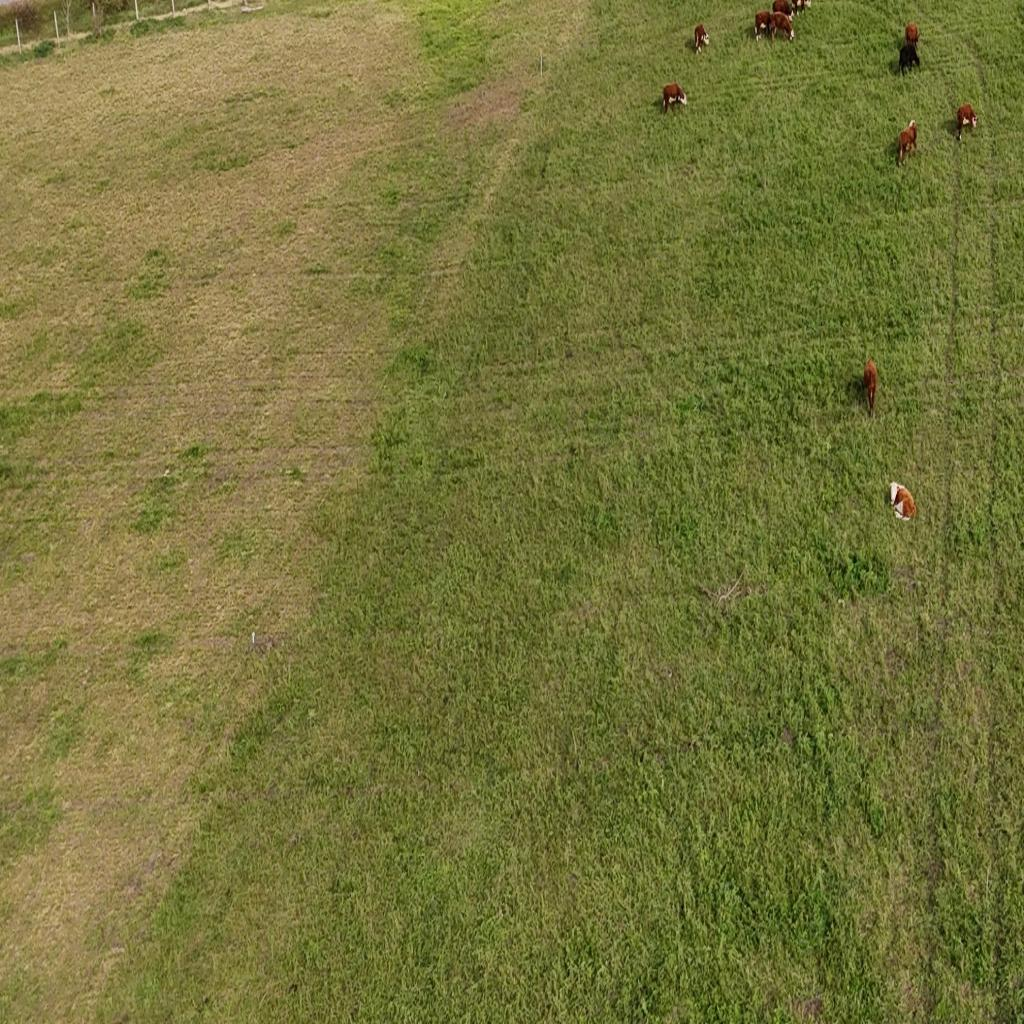cow: (888, 481, 918, 526), (860, 356, 879, 420), (897, 121, 918, 168), (956, 102, 978, 140), (662, 81, 688, 111), (770, 11, 795, 42), (753, 9, 777, 41), (899, 41, 920, 76), (694, 22, 711, 55), (773, 0, 794, 21), (904, 22, 920, 48), (792, 0, 812, 15)
